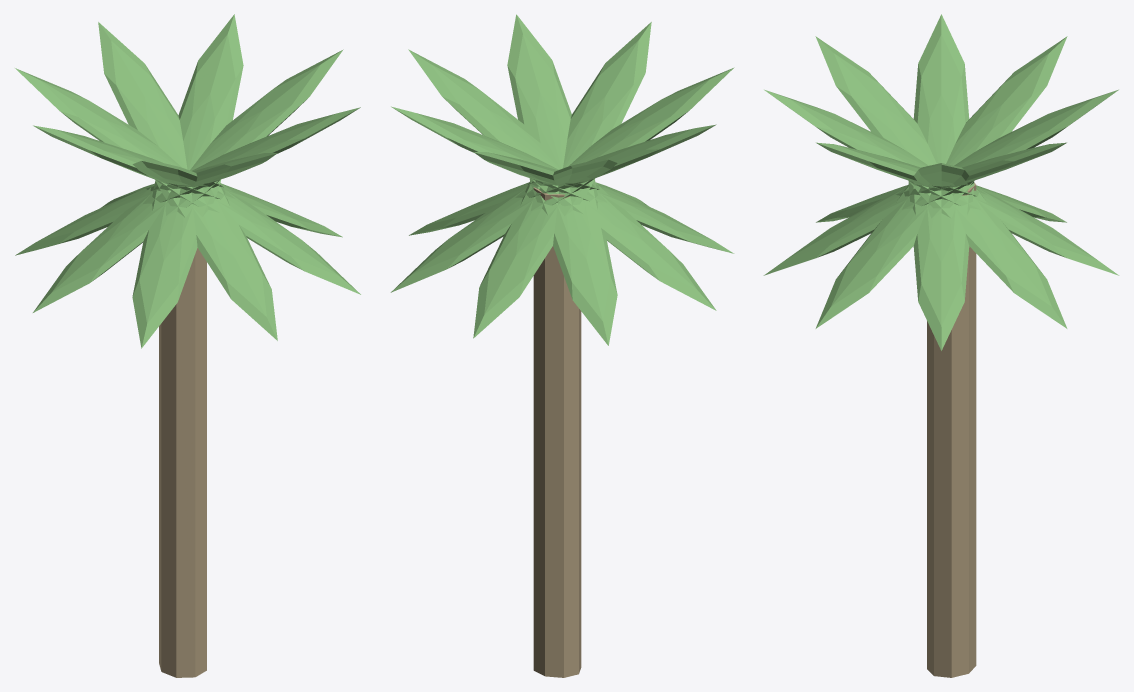
The model's file is tree_palm.glb.
The picture shows the model from 3 angles, left to right: view 1: azimuth 30°, elevation 25°; view 2: azimuth 150°, elevation 25°; view 3: azimuth 270°, elevation 25°; orthographic projection.
Visible parts, largest first — view 1: Tree_Palm; view 2: Tree_Palm; view 3: Tree_Palm.
Boxes of the visible parts, x1=… form: Tree_Palm: x1=15, y1=14, x2=360, y2=677; Tree_Palm: x1=390, y1=14, x2=734, y2=677; Tree_Palm: x1=763, y1=14, x2=1119, y2=677.
Size of the model in its own units: 4.33 by 7.77 by 4.33.
